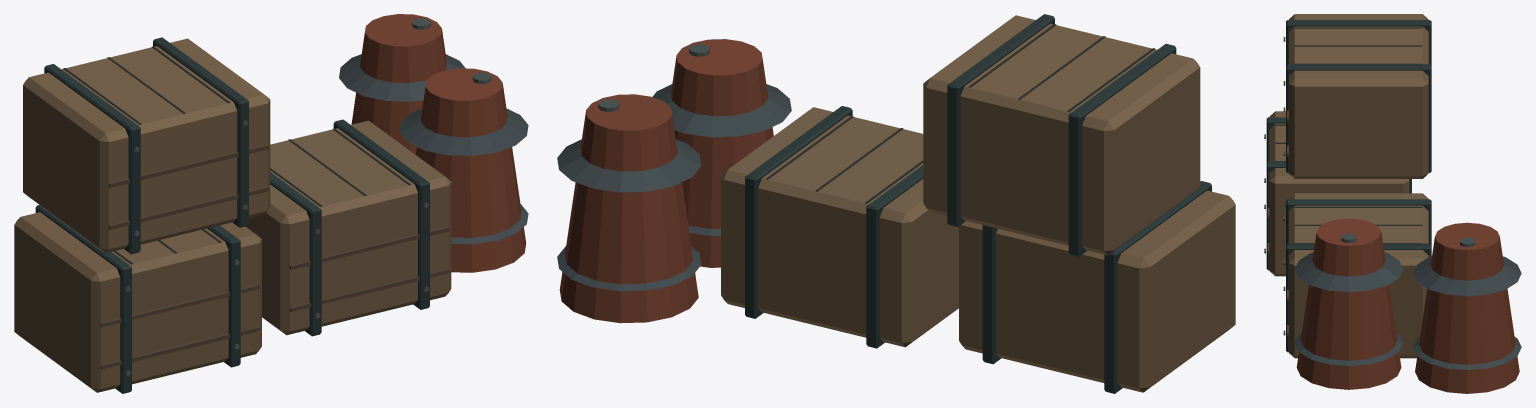
Rendered from field_stores.glb.
3 renders of one model, left to right at view 1: azimuth 30°, elevation 25°; view 2: azimuth 150°, elevation 25°; view 3: azimuth 270°, elevation 25°, orthographic. The views are drawn at different scales.
Parts seen in each view (by area): view 1: field_stores; view 2: field_stores; view 3: field_stores.
Boxes of the visible parts, x1,y1,x2,y2 form: field_stores: (14, 14, 528, 393); field_stores: (557, 14, 1235, 393); field_stores: (1264, 14, 1521, 393).
Size of the model in its own units: 2.41 by 1.2 by 1.33.
